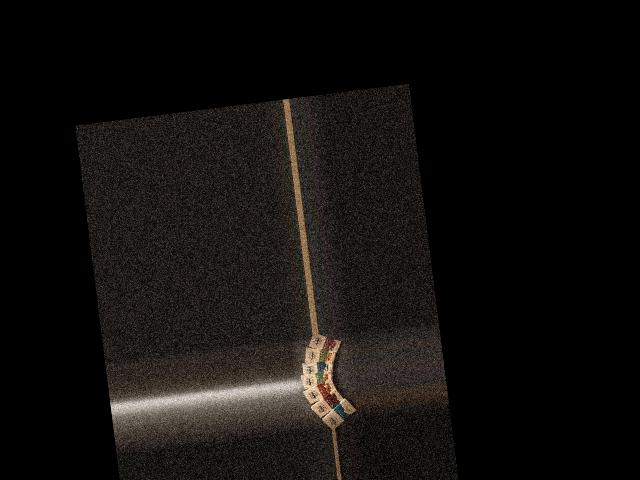chocolate: (318, 396, 360, 429)
